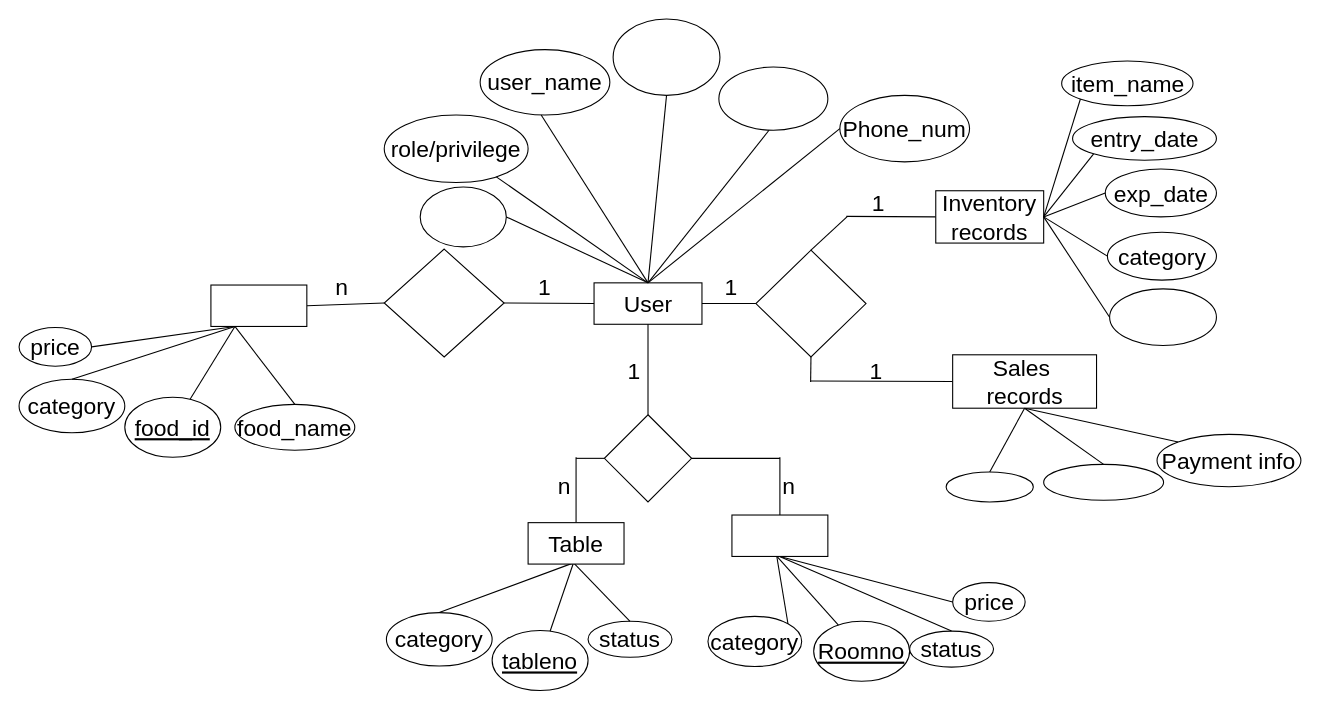
Some shapes in this 1320 by 710 pixel diagram are drawn without their labels. The shapes that lost their labels are listed below. From the top down, each one's centre as x and y in pixels, then its label:
the point at 666,56: user_id
the point at 773,98: password
the point at 462,216: email
the point at 258,305: Menu
the point at 443,302: can order from
the point at 810,303: can access
the point at 1162,317: item_id
the point at 647,458: Book
the point at 989,486: time
the point at 1103,481: sales_no
the point at 779,535: Room
